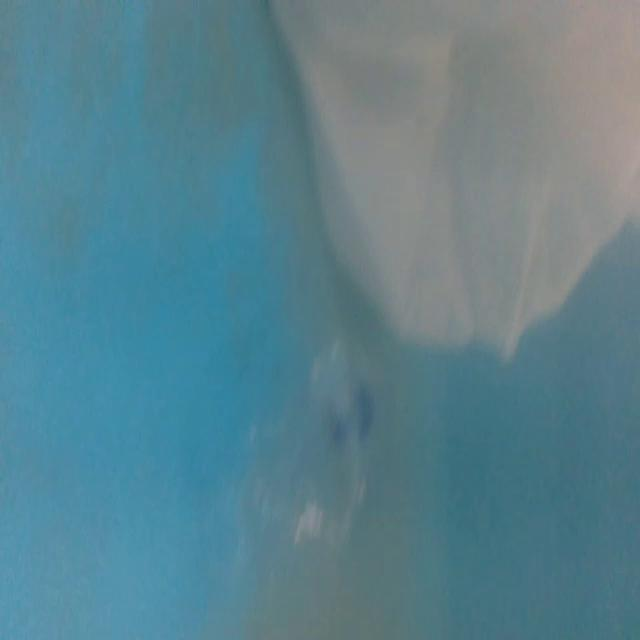plastic bags: (257, 3, 640, 372)
plastic bottle: (241, 338, 379, 630)
